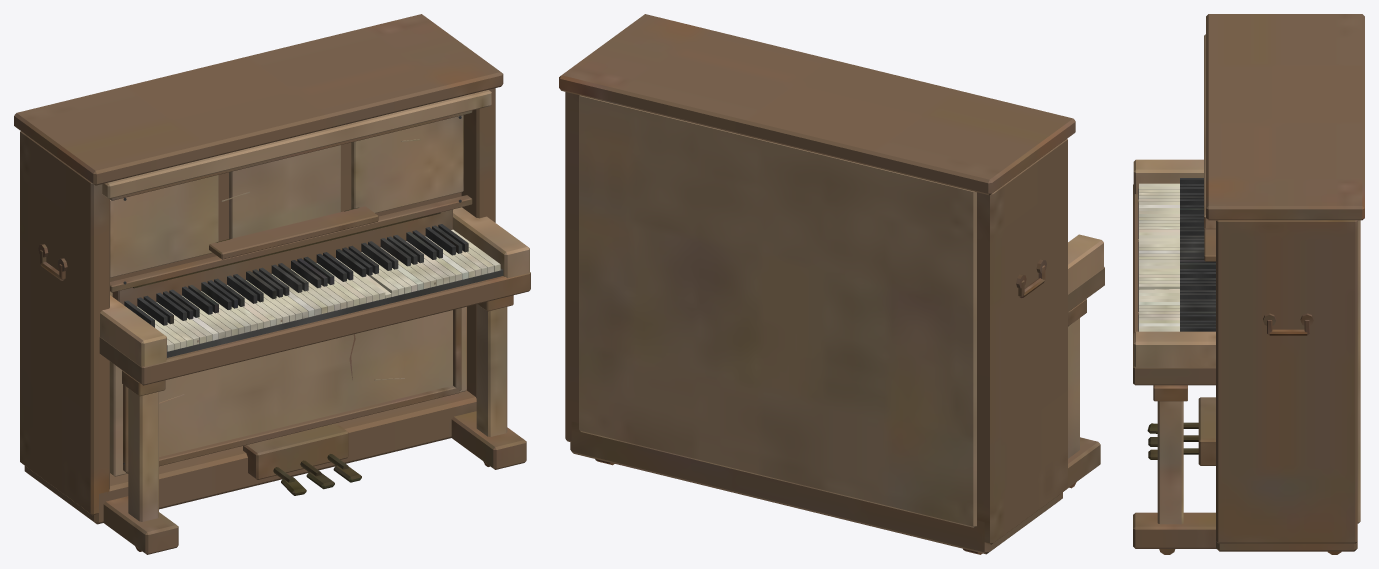
The model's file is L24_upright_piano.glb.
The picture shows the model from 3 angles, left to right: view 1: azimuth 30°, elevation 25°; view 2: azimuth 150°, elevation 25°; view 3: azimuth 270°, elevation 25°; orthographic projection. The views are drawn at different scales.
Visible parts, largest first — view 1: Heavy plinth; view 2: Heavy plinth; view 3: Heavy plinth.
Part boxes in pixels (box(x1,y1,x2,y2)): Heavy plinth: box(14, 14, 530, 554); Heavy plinth: box(559, 14, 1104, 554); Heavy plinth: box(1133, 14, 1364, 554).
Size of the model in its own units: 1.6 by 1.37 by 0.7995.
Materials: 8 (8 with a texture image).
